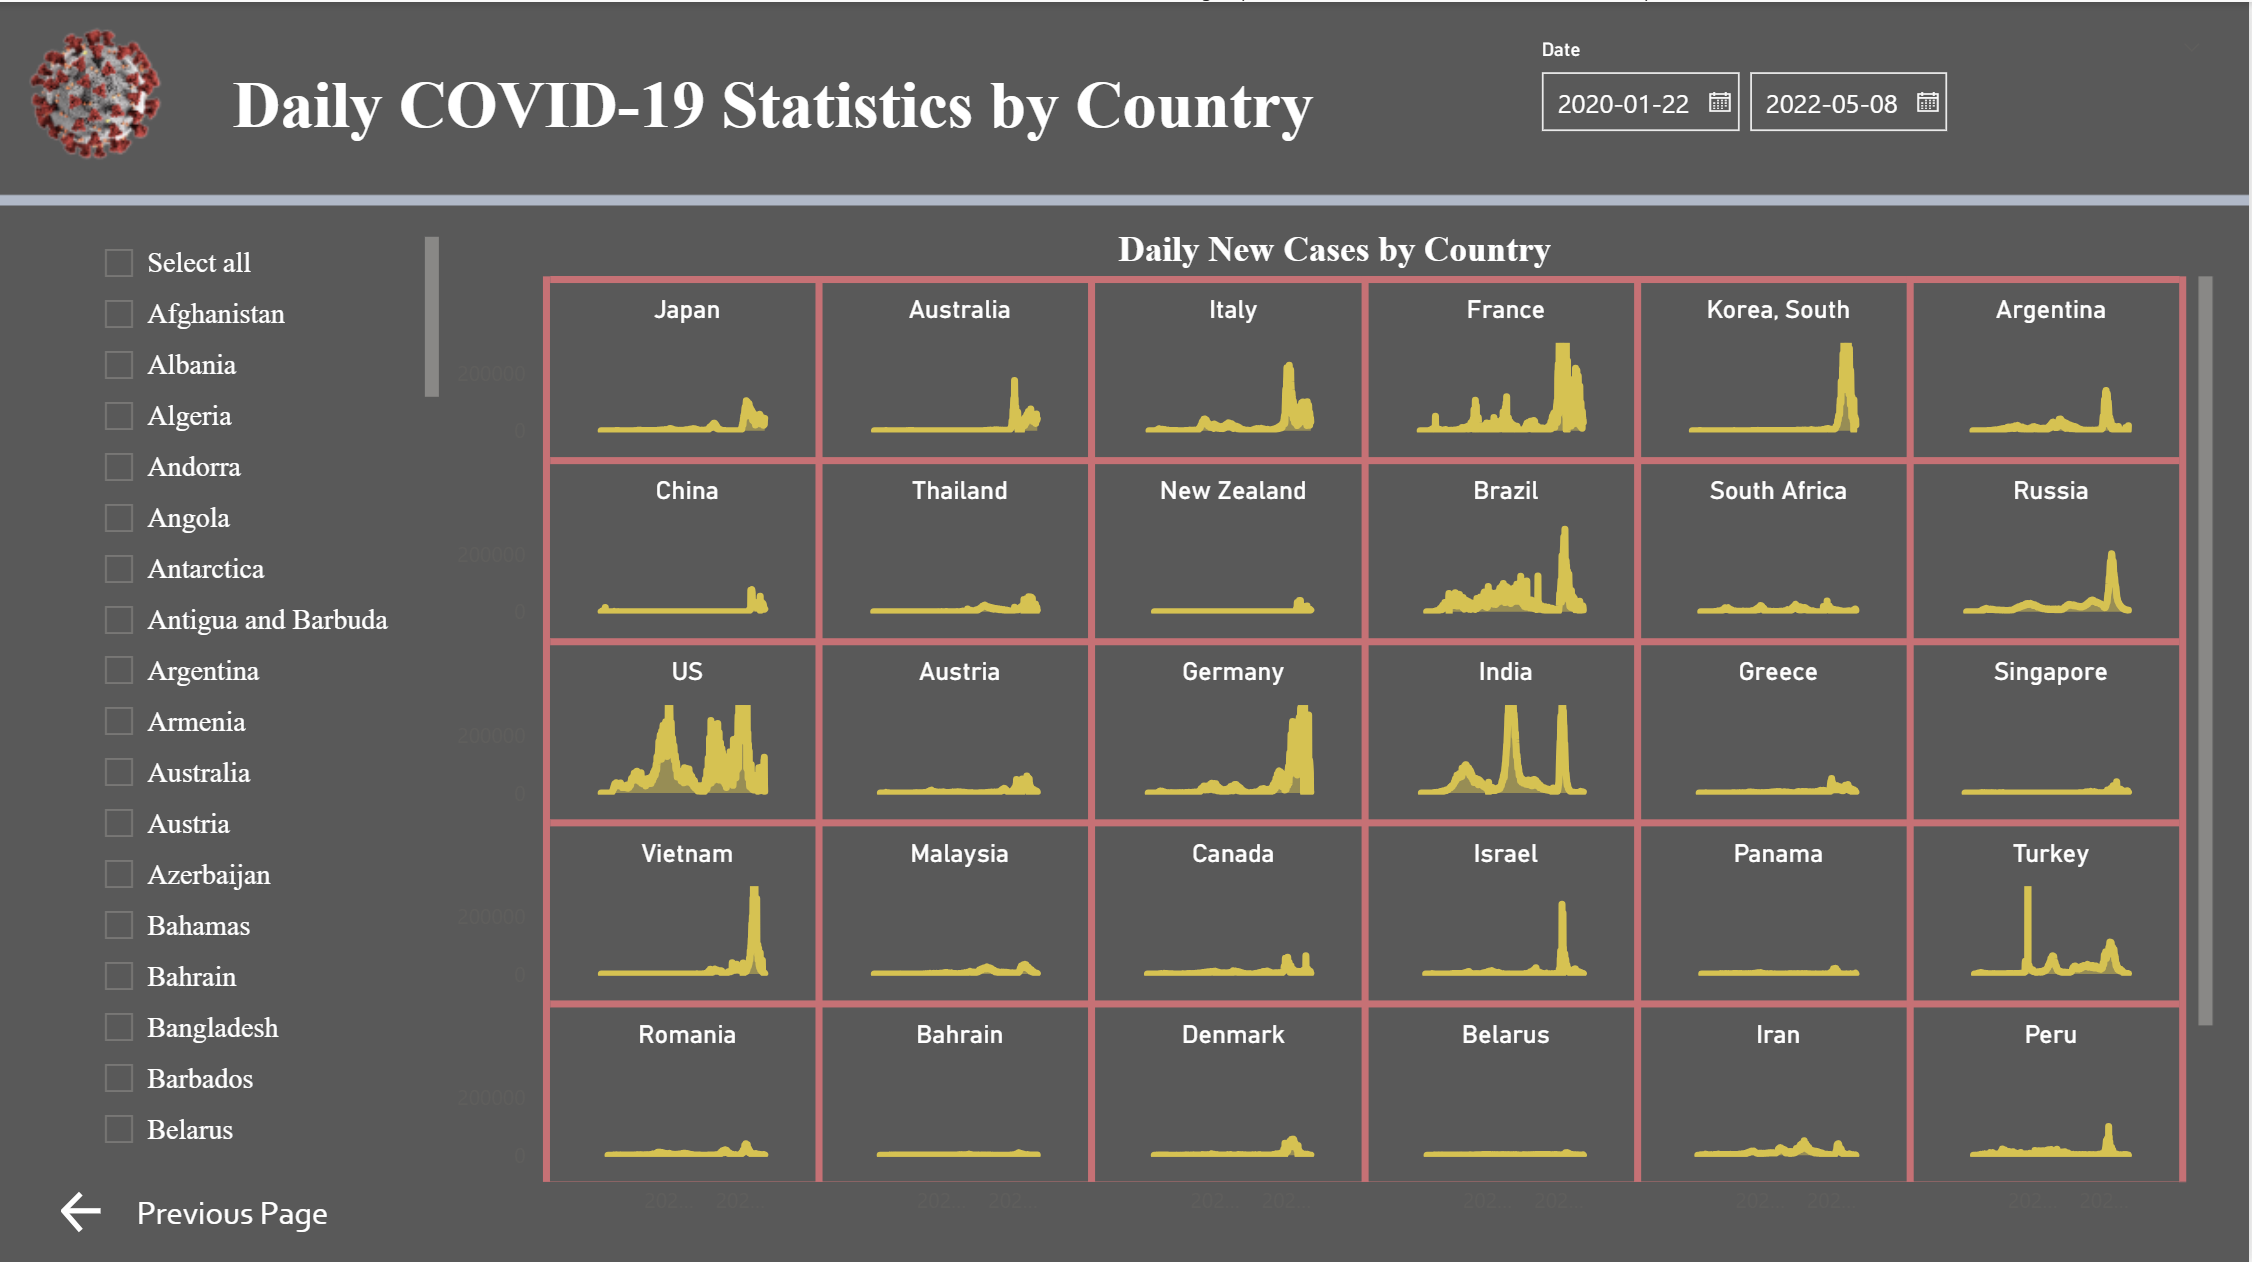

This screenshot's page, from the dashboard's own definition file:
{"tool":"powerbi","page":{"name":"Daily COVID-19 Statistics by Country","canvas":[1280,720],"ordinal":4},"visuals":[{"type":"areaChart","title":"Daily New Cases by Country","fields":{"Y":["COVID-19 Measures.Daily New Cases"],"Category":["Calendar.Date"],"Rows":["COVID-19 Cases.Country/Region"]},"box":[256,128,1008,576],"z":0},{"type":"slicer","fields":{"Values":["COVID-19 Cases.Country/Region"]},"box":[48,128,208,528],"z":1000},{"type":"slicer","fields":{"Values":["Calendar.Date"]},"box":[864,16,400,80],"z":2000},{"type":"textbox","box":[128,32,640,96],"z":3000},{"type":"actionButton","box":[32,672,160,32],"z":4000}]}

Visuals, with their boxes in screenshot pixels (x1, y1, x2, y2), scaled from the page's 1280x720 canvas onto the 2252x1262 screenshot:
"Daily New Cases by Country" areaChart: left=450, top=224, right=2224, bottom=1234
slicer - COVID-19 Cases.Country/Region: left=84, top=224, right=450, bottom=1150
slicer - Calendar.Date: left=1520, top=28, right=2224, bottom=168
textbox: left=225, top=56, right=1351, bottom=224
actionButton: left=56, top=1178, right=338, bottom=1234
